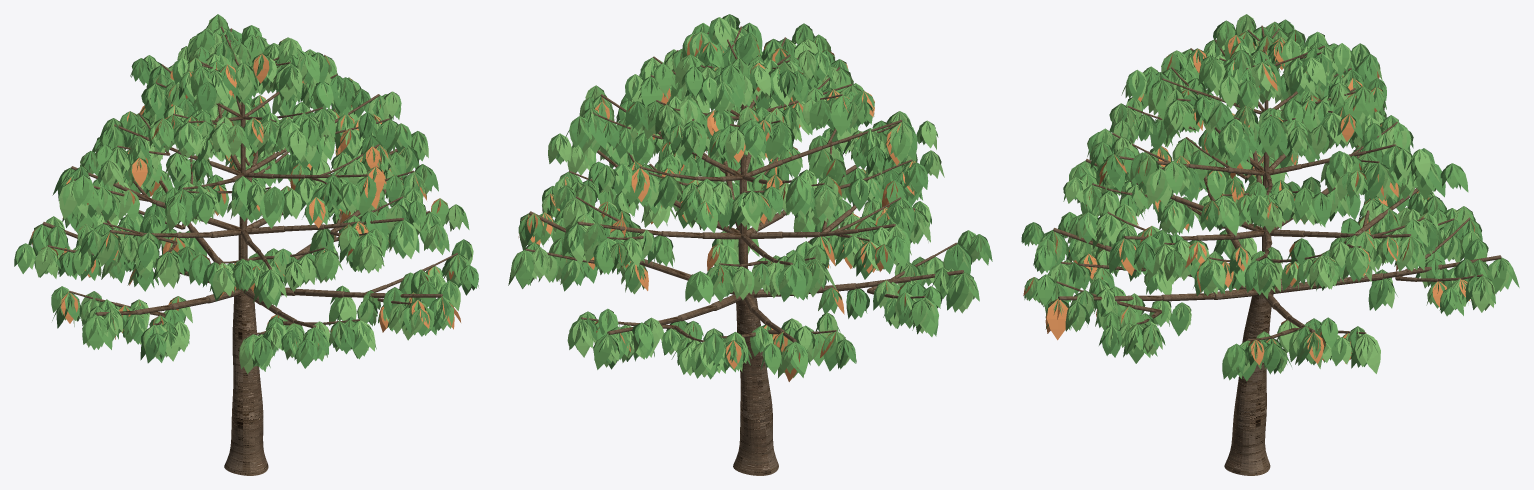
The model's file is tree_amendoeira_3.glb.
The picture shows the model from 3 angles, left to right: view 1: azimuth 30°, elevation 25°; view 2: azimuth 150°, elevation 25°; view 3: azimuth 270°, elevation 25°; orthographic projection. The views are drawn at different scales.
Parts seen in each view (by area): view 1: tree_amendoeira_3; view 2: tree_amendoeira_3; view 3: tree_amendoeira_3.
Part boxes in pixels (x1,y1,x2,y2): tree_amendoeira_3: (14, 14, 478, 475); tree_amendoeira_3: (508, 14, 992, 475); tree_amendoeira_3: (1021, 14, 1519, 475).
Size of the model in its own units: 6.24 by 6.22 by 6.43.
Materials: 5 (1 with a texture image).
